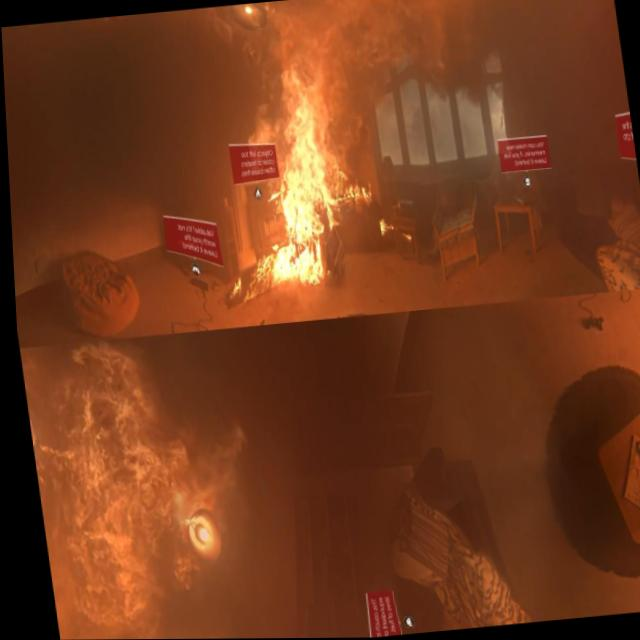fire: (206, 56, 374, 296)
